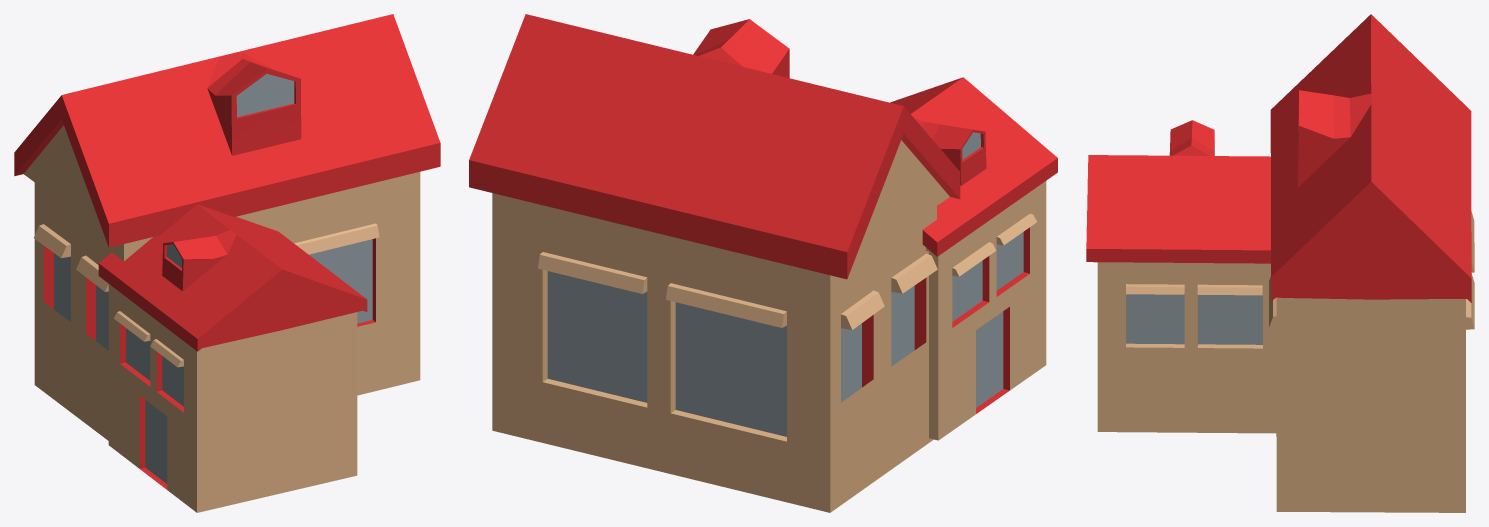
The model's file is bighouse.gltf.
3 renders of one model, left to right at view 1: azimuth 30°, elevation 25°; view 2: azimuth 150°, elevation 25°; view 3: azimuth 270°, elevation 25°, orthographic. The views are drawn at different scales.
Visible parts, largest first — view 1: Cube.057_Cube.067; view 2: Cube.057_Cube.067; view 3: Cube.057_Cube.067.
Boxes of the visible parts, x1=… form: Cube.057_Cube.067: x1=14, y1=14, x2=440, y2=512; Cube.057_Cube.067: x1=469, y1=14, x2=1057, y2=512; Cube.057_Cube.067: x1=1086, y1=14, x2=1474, y2=512.
Size of the model in its own units: 7.03 by 6.79 by 6.84.
